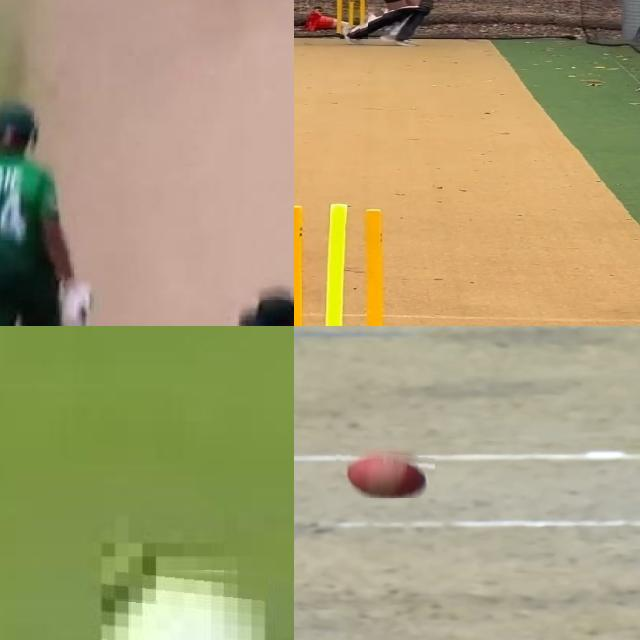Cricket ball: (102, 560, 268, 640), (336, 448, 435, 498)
Stumps: (294, 202, 401, 326), (335, 0, 368, 39)
